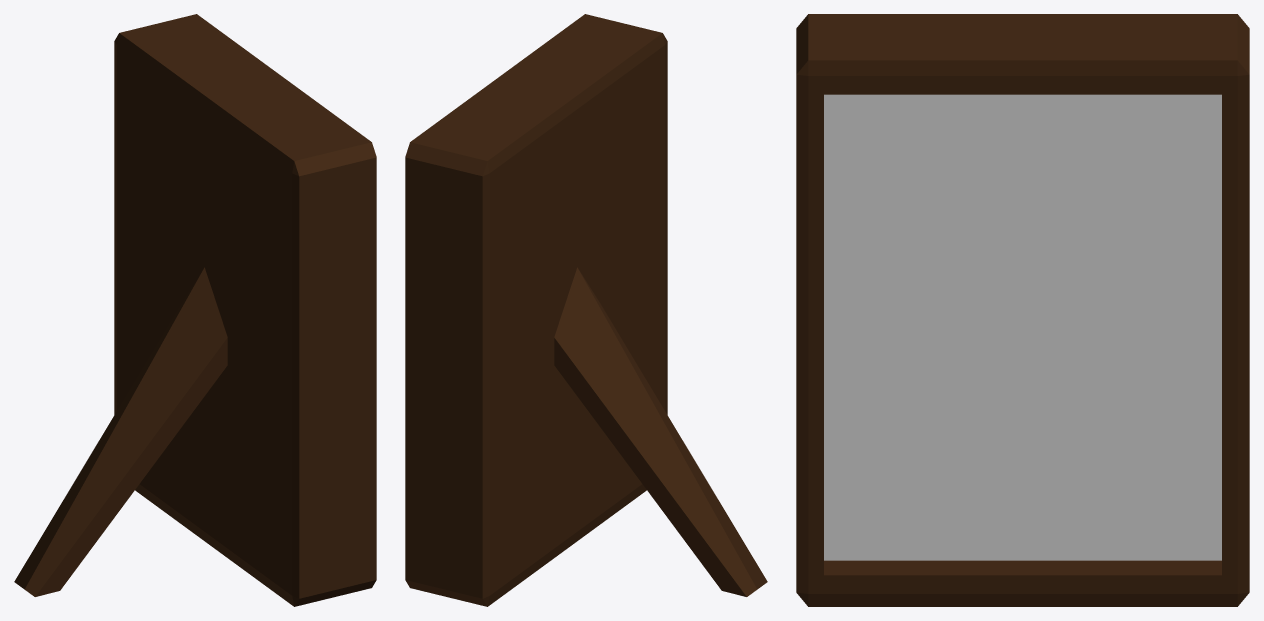
Rendered from MarcoFotos2.fbx.
The picture shows the model from 3 angles, left to right: view 1: azimuth 30°, elevation 25°; view 2: azimuth 150°, elevation 25°; view 3: azimuth 270°, elevation 25°; orthographic projection. The views are drawn at different scales.
Visible parts, largest first — view 1: Marco Fotos 2; view 2: Marco Fotos 2; view 3: Marco Fotos 2.
Boxes of the visible parts, x1=… form: Marco Fotos 2: x1=14, y1=14, x2=376, y2=606; Marco Fotos 2: x1=405, y1=14, x2=767, y2=606; Marco Fotos 2: x1=796, y1=14, x2=1249, y2=606.
Size of the model in its own units: 39.58 by 64.69 by 48.36.
